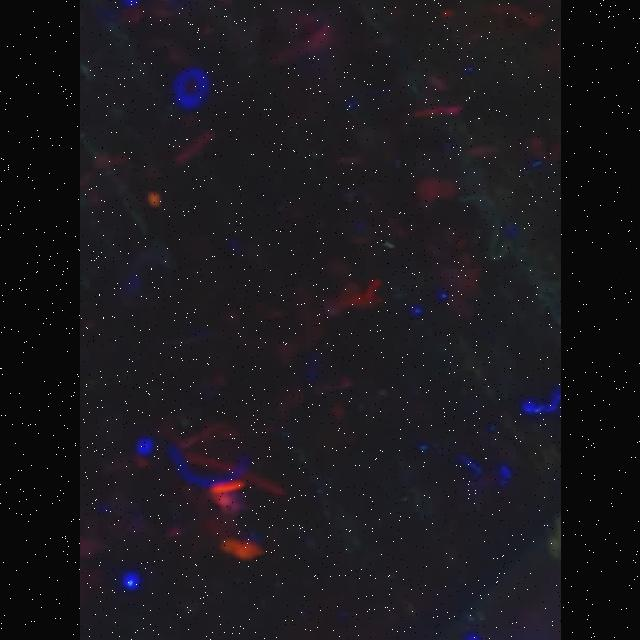Fragment: (324, 277, 386, 317)
